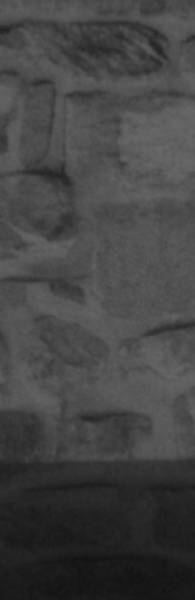water: (0, 461, 195, 600)
